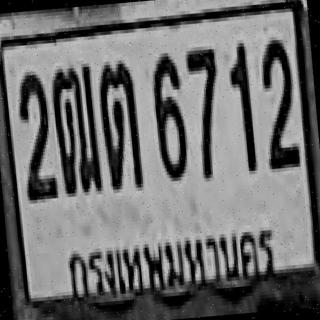A18: (48, 61, 102, 196)
A21: (95, 58, 142, 188)
N01: (226, 39, 256, 172)
N02: (256, 36, 298, 166), (14, 69, 56, 199)
N06: (149, 48, 188, 178)
N07: (182, 44, 224, 177)
P04: (56, 215, 283, 313)
